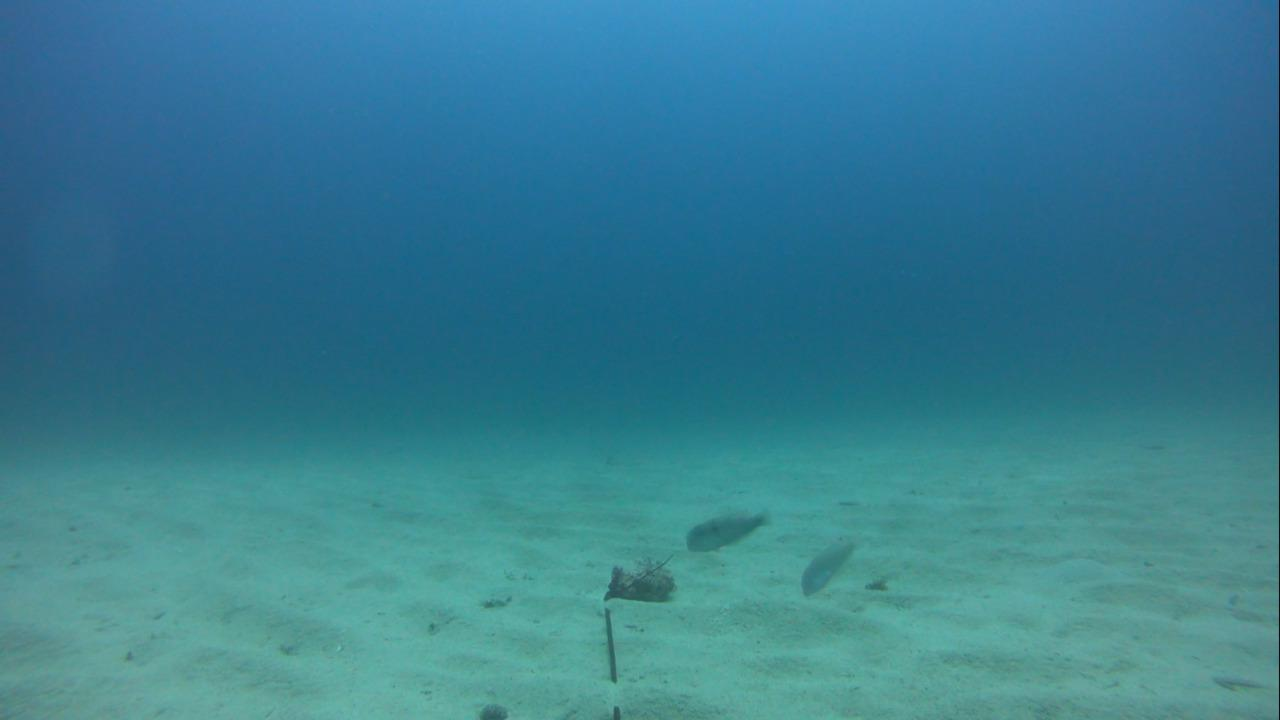raor: (681, 511, 771, 554), (797, 537, 855, 594)
